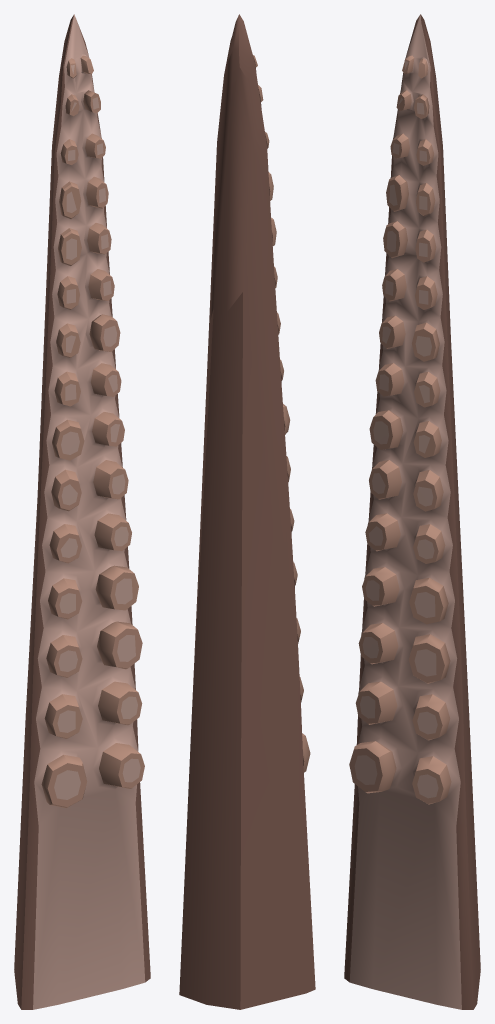
The model's file is Enemy_Tentacle.glb.
3 renders of one model, left to right at view 1: azimuth 30°, elevation 25°; view 2: azimuth 150°, elevation 25°; view 3: azimuth 330°, elevation 25°, orthographic.
Parts seen in each view (by area): view 1: Enemy_Tentacle; view 2: Enemy_Tentacle; view 3: Enemy_Tentacle.
Boxes of the visible parts, bbox=[...] form: Enemy_Tentacle: bbox=[14, 14, 150, 1009]; Enemy_Tentacle: bbox=[179, 14, 315, 1009]; Enemy_Tentacle: bbox=[344, 14, 480, 1009].
Bounding box in the file's own units: 0.8465 × 6.07 × 0.6717.
Materials: 1 (1 with a texture image).
